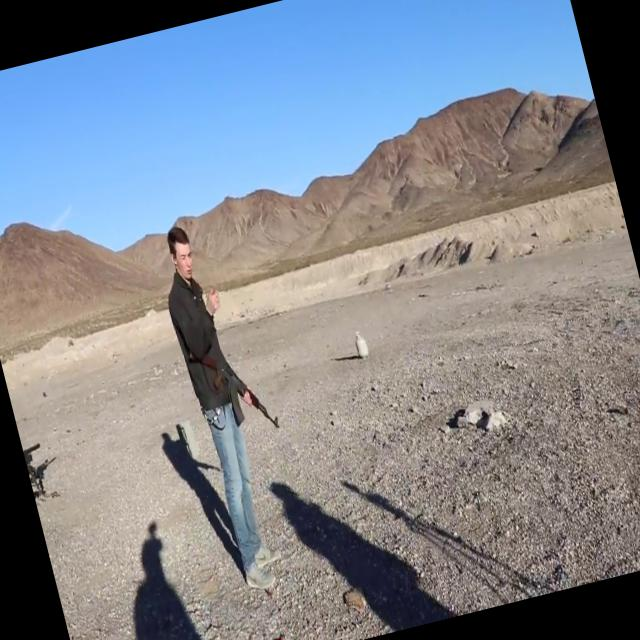long weapon: (185, 318, 290, 448)
